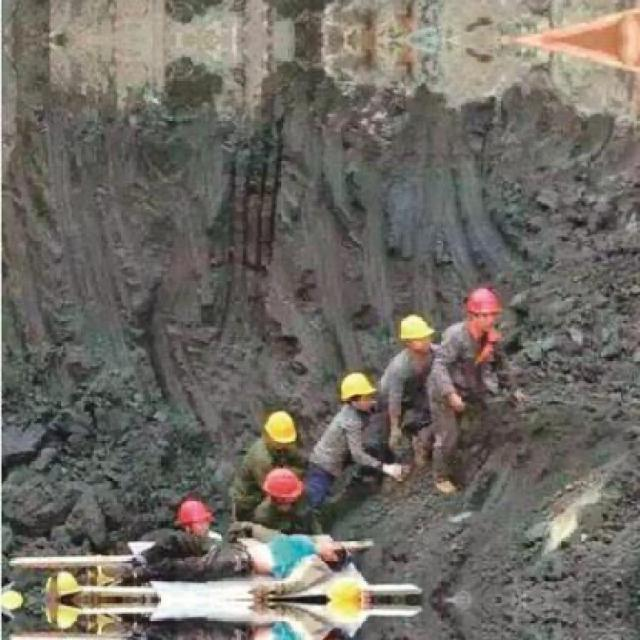helmet: (260, 466, 309, 511), (464, 284, 502, 336), (174, 497, 215, 541), (396, 312, 432, 360), (337, 371, 375, 415), (265, 405, 300, 452)
